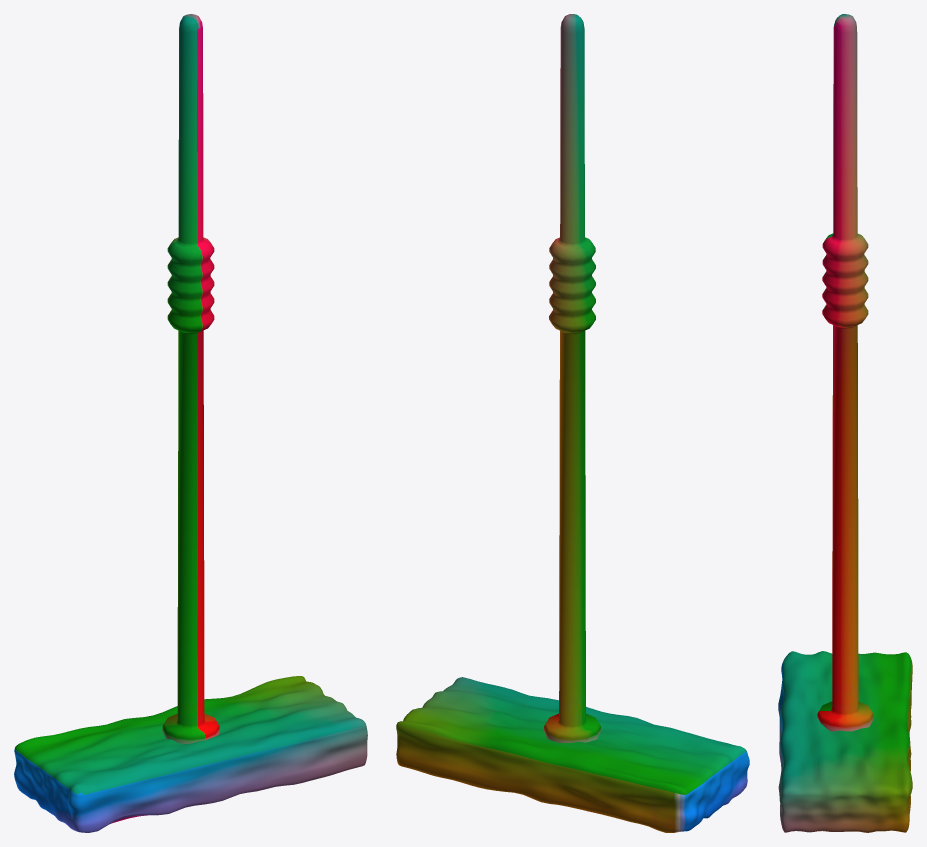
File: mop.fbx
3 renders of one model, left to right at view 1: azimuth 30°, elevation 25°; view 2: azimuth 150°, elevation 25°; view 3: azimuth 270°, elevation 25°, orthographic.
Visible parts, largest first — view 1: mopstick; view 2: mopstick; view 3: mopstick.
Boxes of the visible parts, x1=… form: mopstick: x1=14, y1=14, x2=367, y2=832; mopstick: x1=396, y1=14, x2=749, y2=832; mopstick: x1=778, y1=14, x2=912, y2=832.
Size of the model in its own units: 107 by 265 by 42.84.
Materials: 1 (1 with a texture image).
